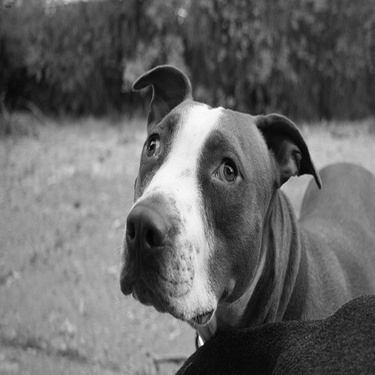dog: (116, 60, 373, 346), (166, 292, 372, 371)
